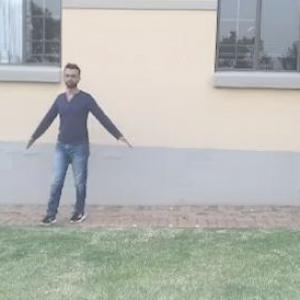land: (28, 68, 132, 227)
